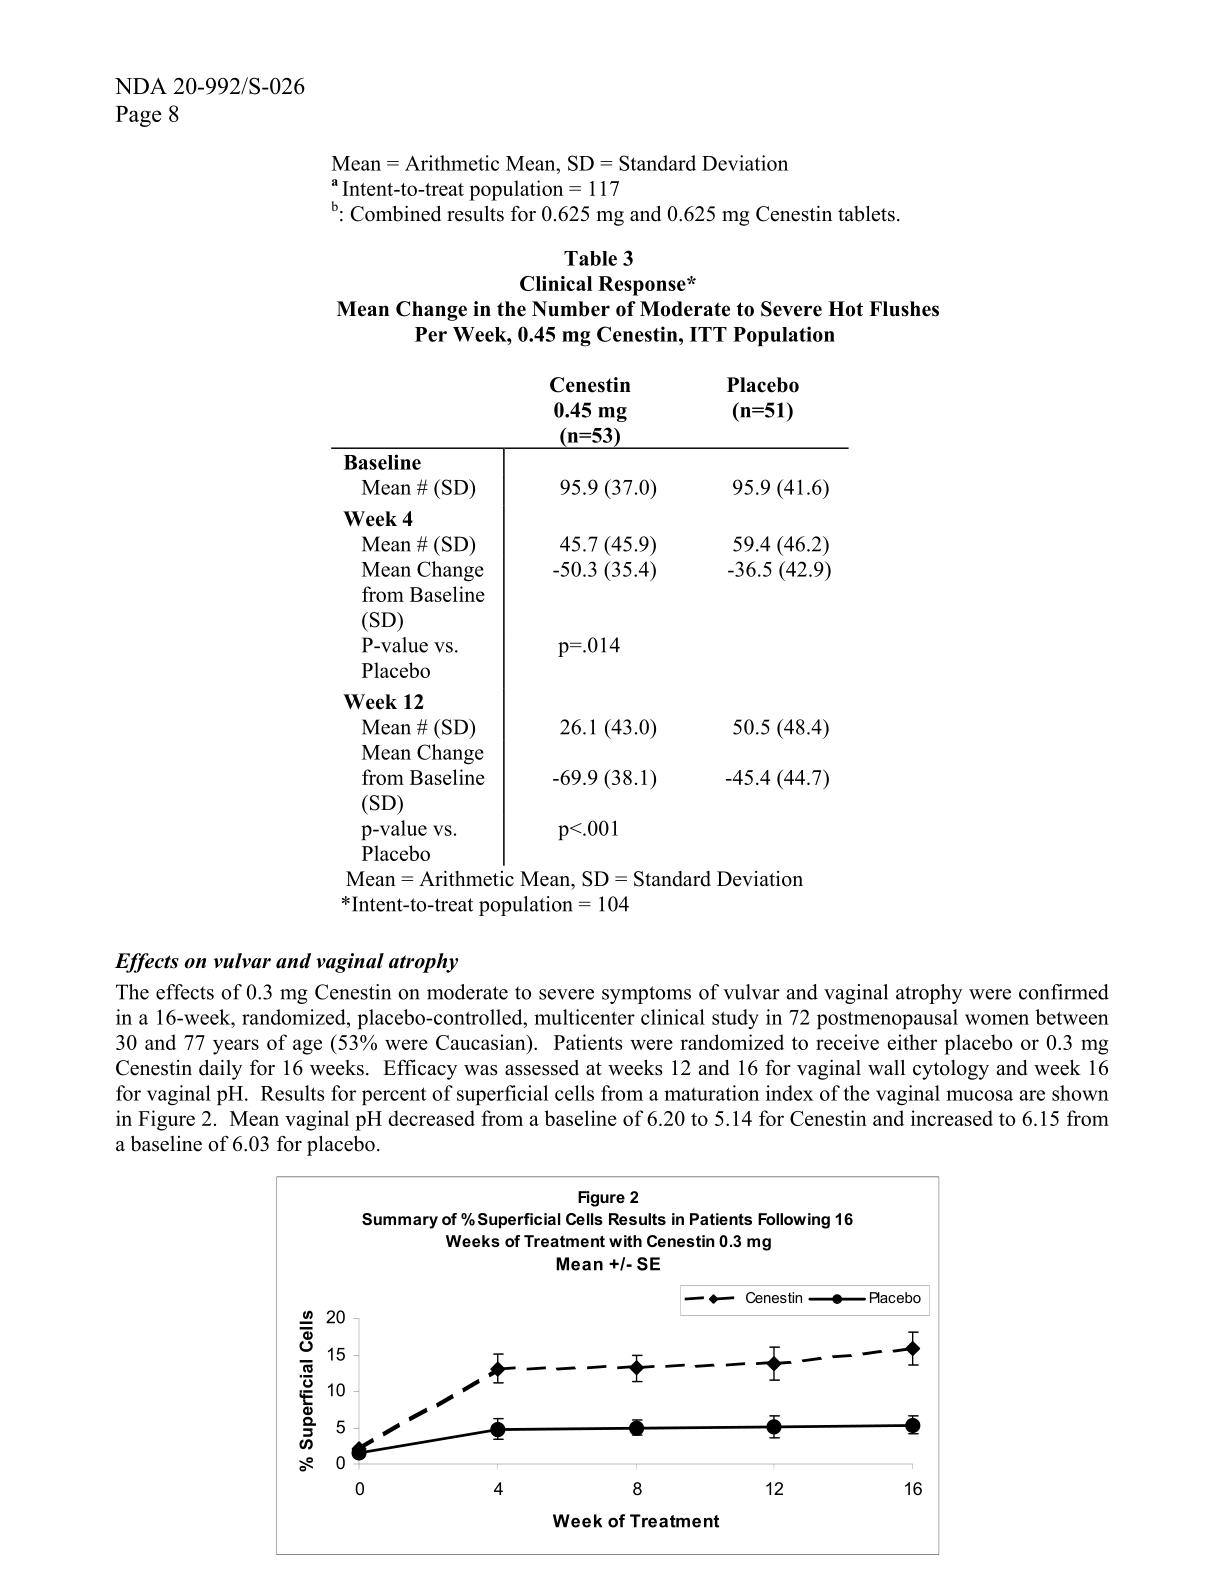partial_lined: (332, 365, 850, 865)
